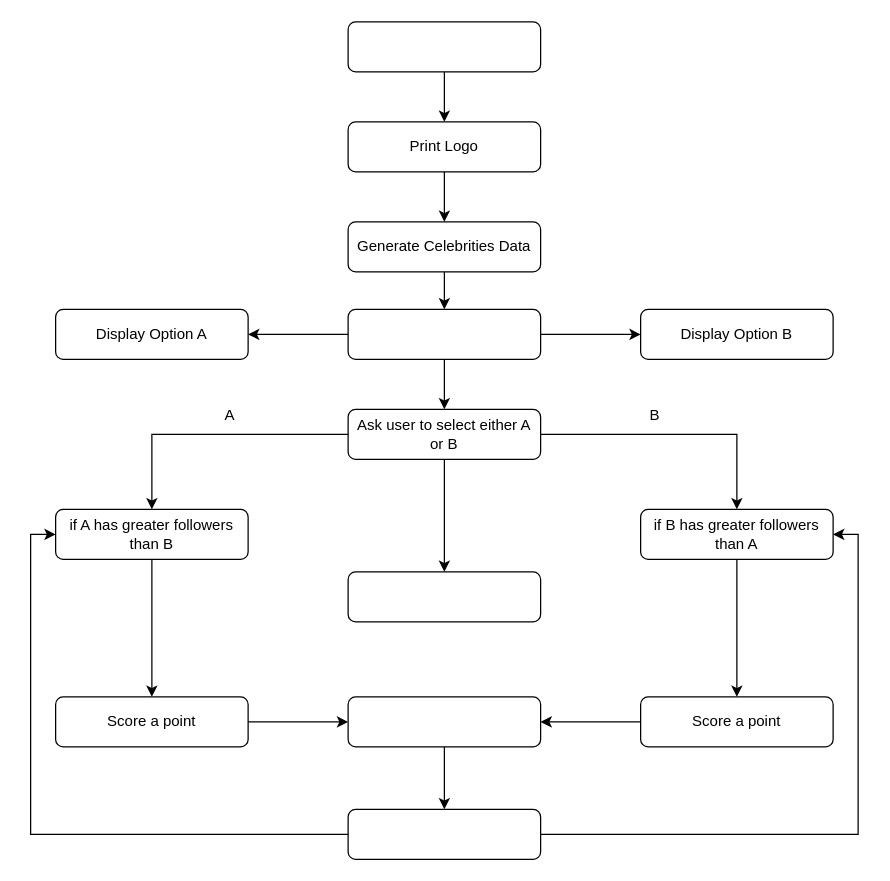
The diagram is 890 pixels wide and 881 high, and some of its shapes have lost their labels. The box of each missing label's shape, as (x1, y1, x2, y2) in pixels:
A = B Generate new option for B: (347, 696, 541, 747)
Ask user to select either A ot B: (347, 808, 541, 859)
If either selected option is lesser than the other. Game over: (347, 571, 541, 622)
Print Vs: (347, 308, 541, 359)
Start The Game: (347, 21, 541, 72)
